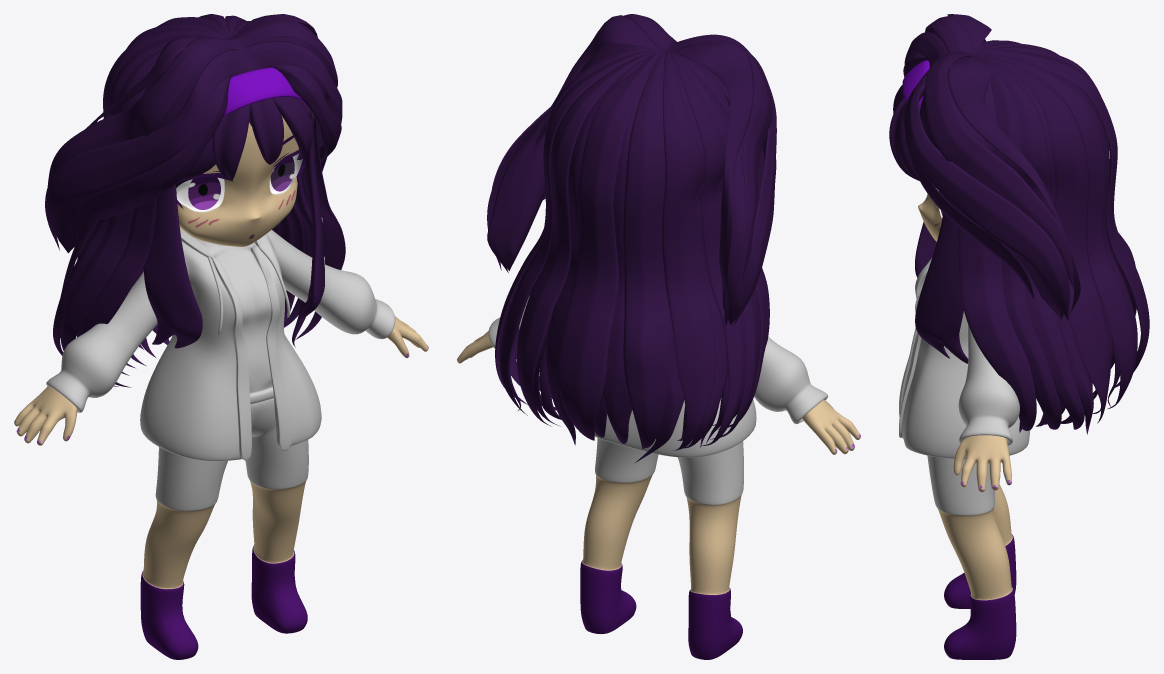
File: Character.fbx
3 views of the same model, side by side, from view 1: azimuth 30°, elevation 25°; view 2: azimuth 150°, elevation 25°; view 3: azimuth 270°, elevation 25° (orthographic). The views are drawn at different scales.
Visible parts, largest first — view 1: toc, ao, da, mat2; view 2: toc, da, ao; view 3: toc, ao, da.
Boxes of the visible parts, x1,y1,x2,y2 form: toc: (45, 14, 345, 387); ao: (46, 228, 395, 510); da: (14, 98, 428, 659); mat2: (176, 135, 306, 212); toc: (487, 14, 776, 462); da: (457, 331, 860, 659); ao: (488, 295, 828, 504); toc: (889, 14, 1149, 434); ao: (899, 258, 1030, 515); da: (918, 50, 1044, 659).
Size of the model in its own units: 433 by 636 by 255.
